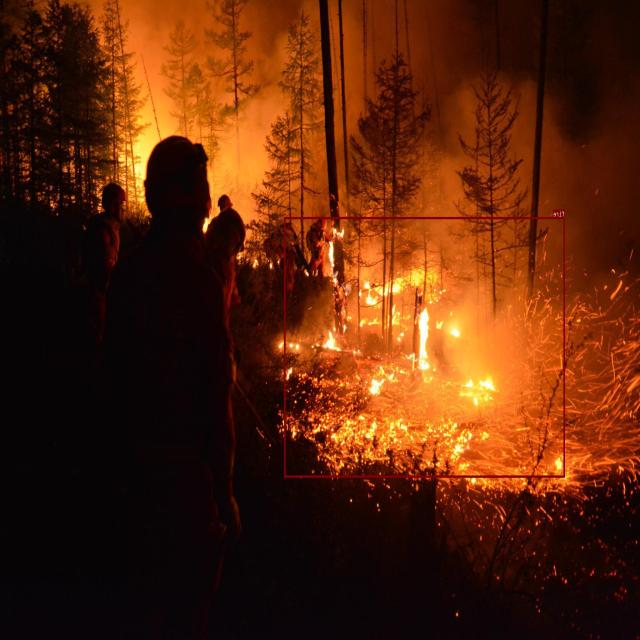fire: (284, 217, 565, 477)
